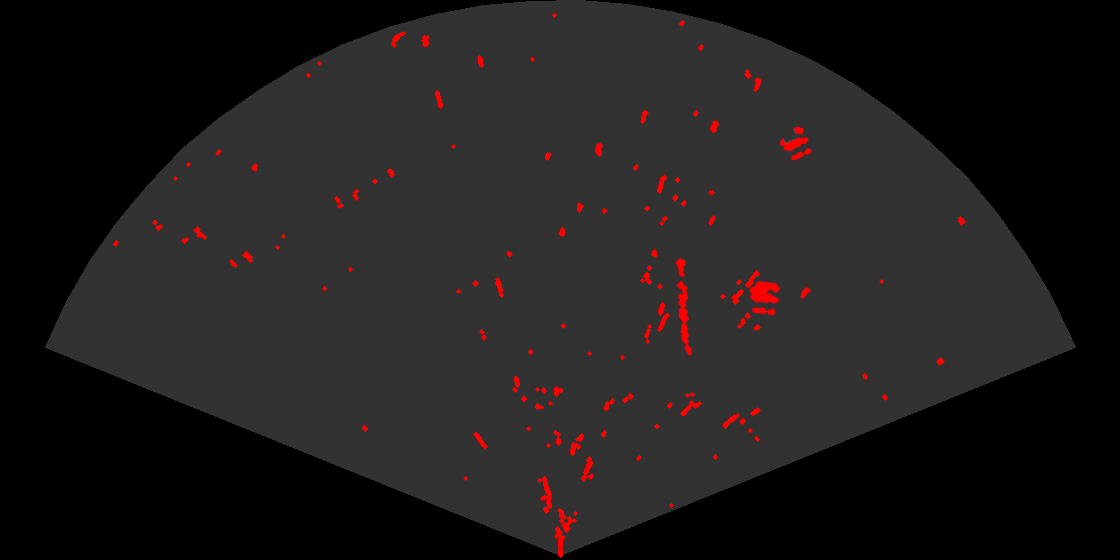ball: (747, 279, 782, 317), (778, 125, 813, 162)
chain: (673, 257, 694, 357)
